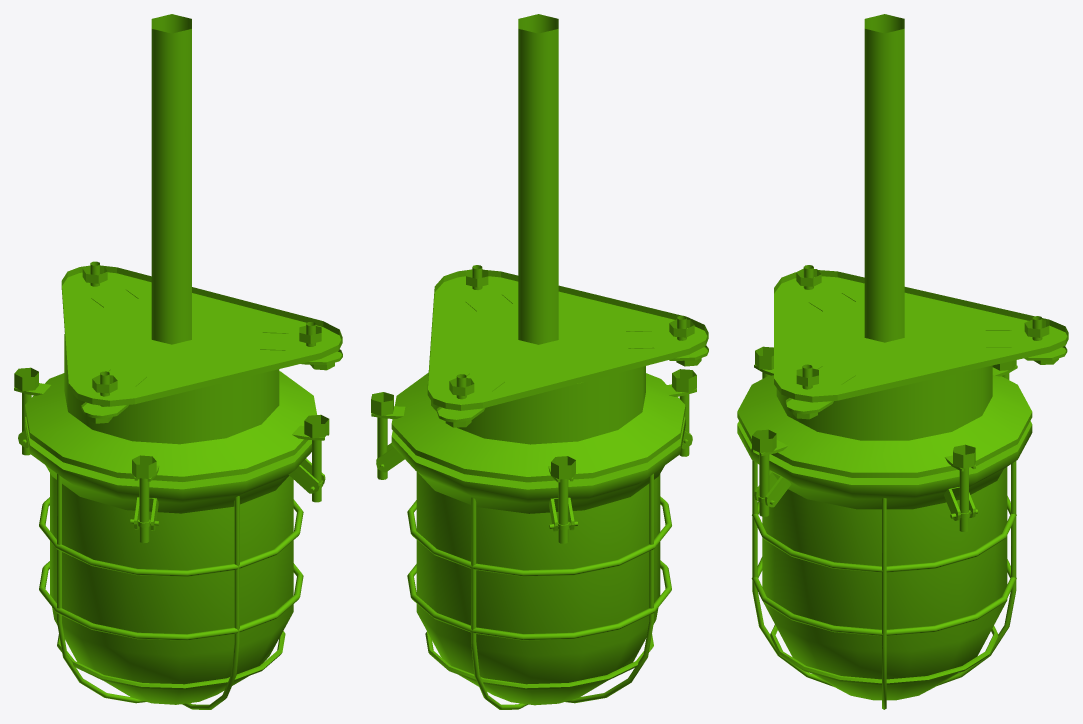
The model's file is lamp.fbx.
3 renders of one model, left to right at view 1: azimuth 30°, elevation 25°; view 2: azimuth 150°, elevation 25°; view 3: azimuth 270°, elevation 25°, orthographic.
Parts seen in each view (by area): view 1: LAmp.001; view 2: LAmp.001; view 3: LAmp.001.
Part boxes in pixels (<box>): LAmp.001: <box>14,14,342,709</box>; LAmp.001: <box>371,14,708,709</box>; LAmp.001: <box>737,14,1068,709</box>.
Bounding box in the file's own units: 17.48 × 43.04 × 19.28.
